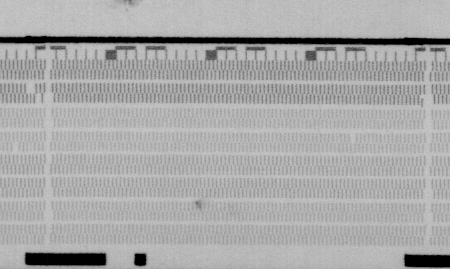Broken hole: (22, 83, 37, 94), (33, 93, 46, 105), (10, 142, 21, 153), (348, 132, 359, 143)
Oblique printing: (416, 95, 429, 108)
